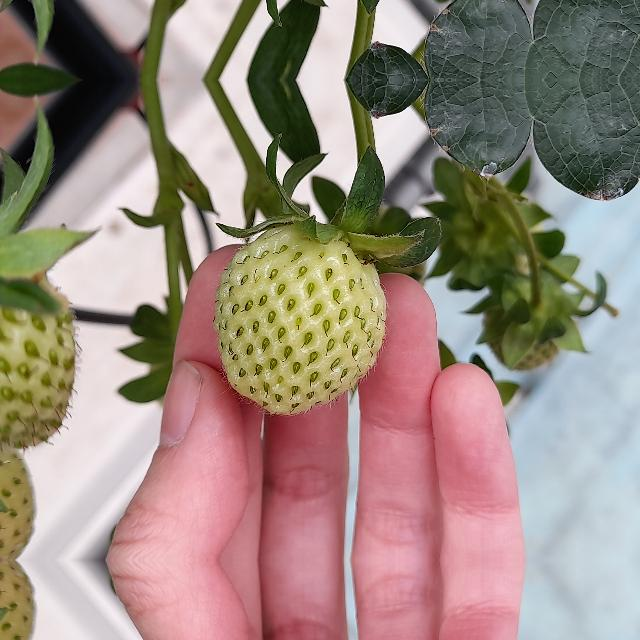Health_25: (212, 224, 386, 414)
